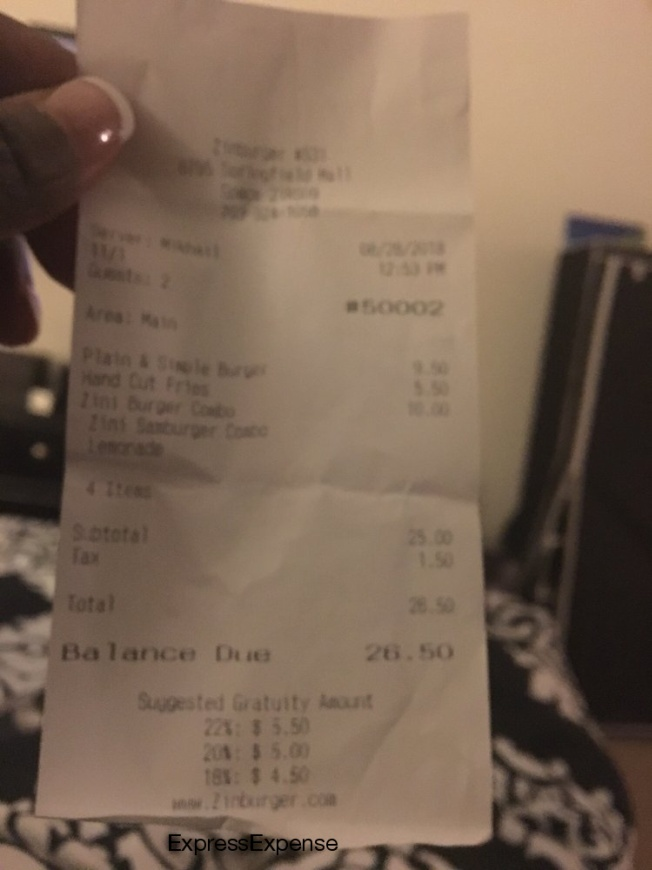Additional details: (121, 675, 389, 828)
Purchase summary: (60, 202, 467, 678)
Receipt: (34, 3, 491, 852)
Shop details: (171, 126, 376, 228)
